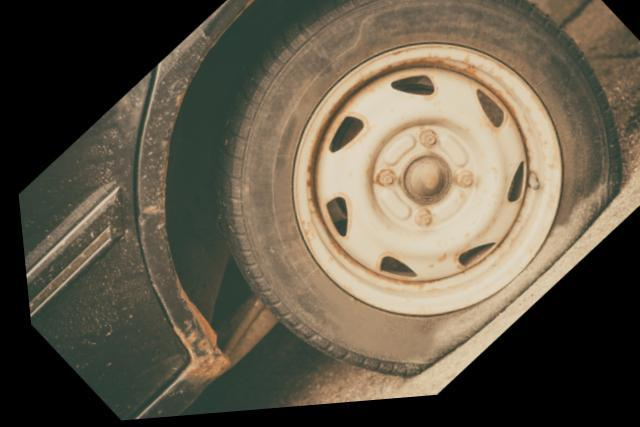tire flat: (202, 0, 617, 382)
